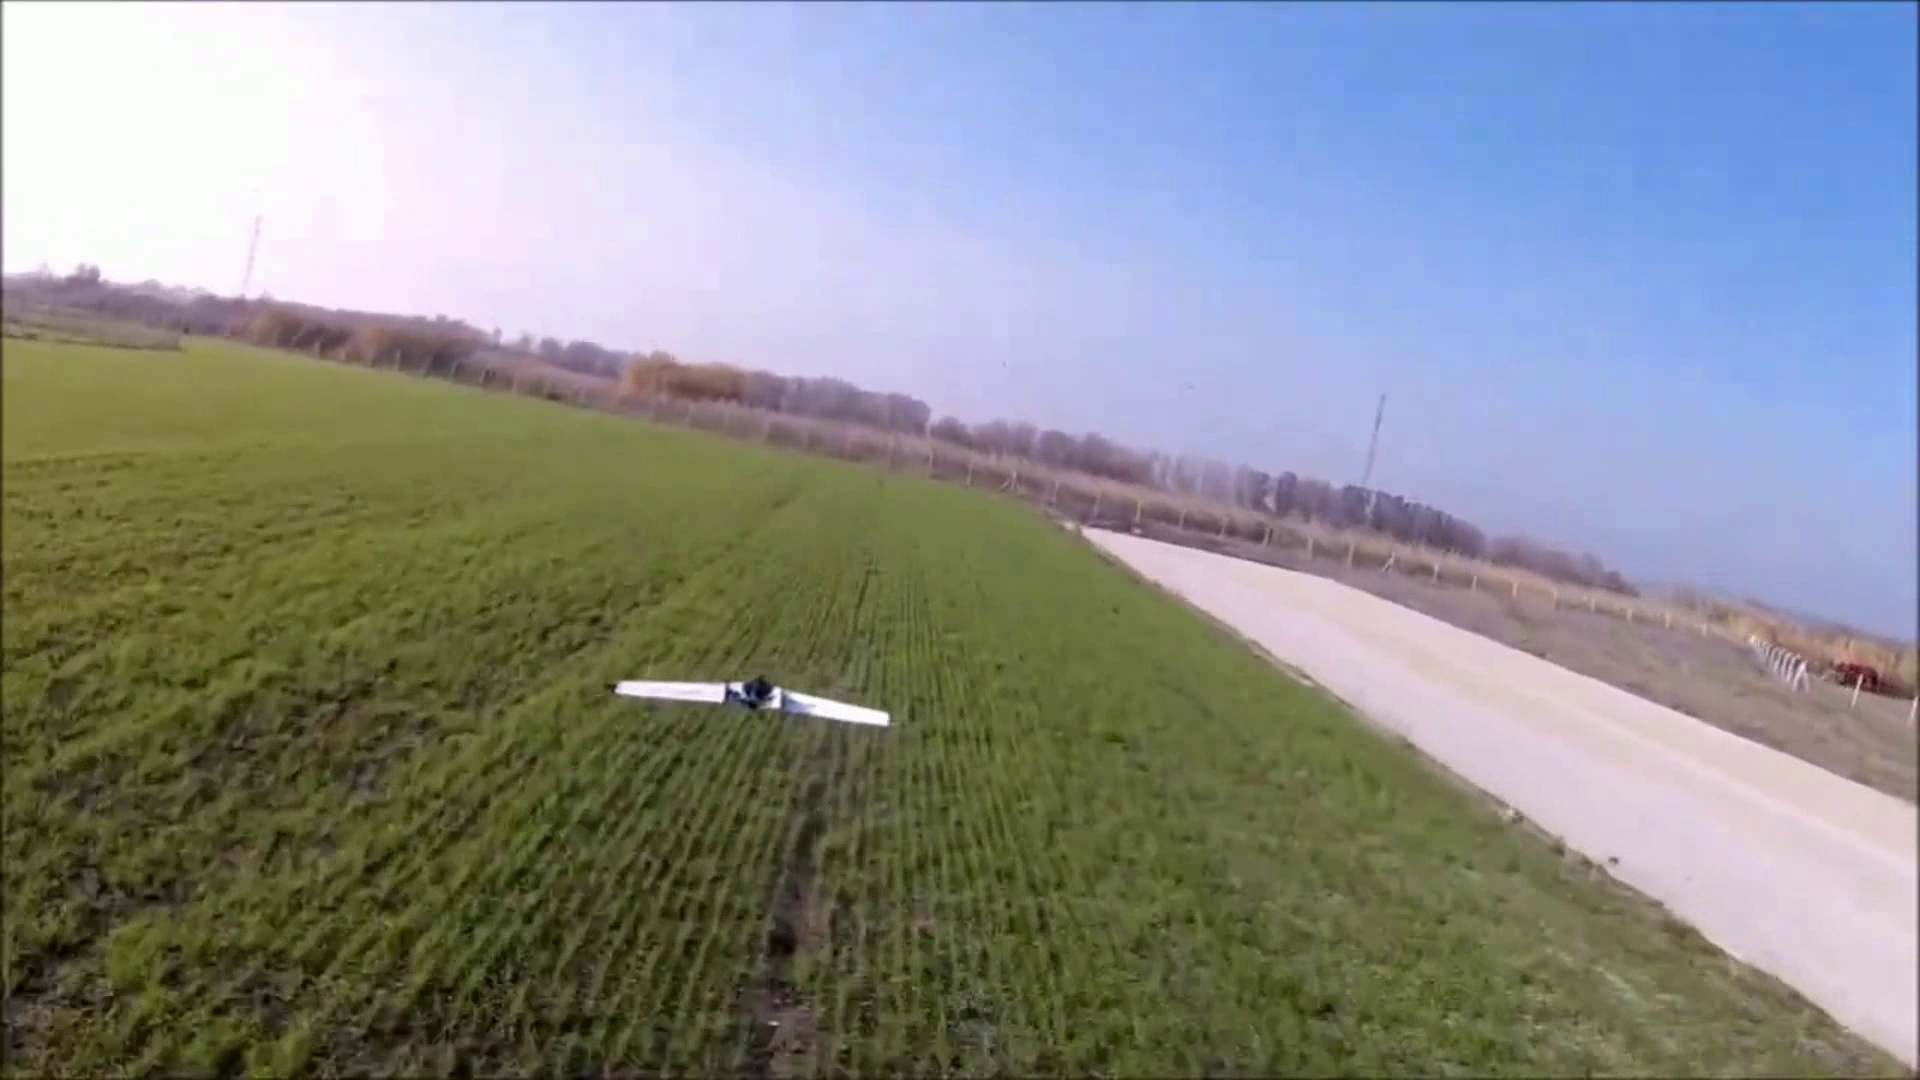airplane: (612, 675, 890, 732)
